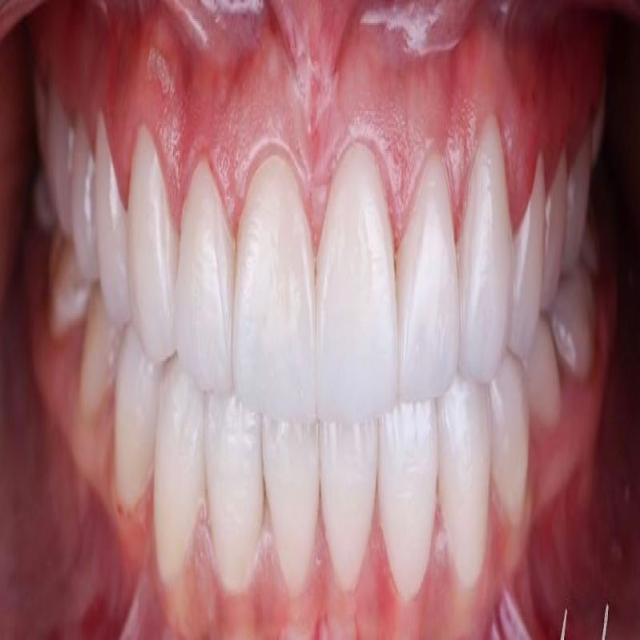1st Molar: (549, 269, 596, 384), (49, 222, 95, 334), (565, 136, 590, 267), (49, 101, 72, 227)
1st Premolar: (114, 319, 158, 510), (508, 160, 546, 357), (95, 113, 129, 329), (491, 353, 530, 514)
2nd Molar: (34, 174, 54, 227), (33, 76, 47, 145), (593, 101, 605, 164)
2nd Premolar: (80, 283, 120, 415), (523, 319, 562, 432), (70, 122, 96, 283), (543, 151, 568, 313)
Canine: (458, 115, 513, 382), (153, 357, 204, 588), (129, 122, 176, 367), (441, 373, 493, 592)
Central Incisor: (317, 139, 399, 422), (232, 155, 317, 426), (320, 418, 380, 596), (264, 420, 320, 598)
Lateral Incisor: (398, 153, 461, 403), (175, 159, 235, 395), (379, 401, 441, 604), (203, 397, 265, 592)
